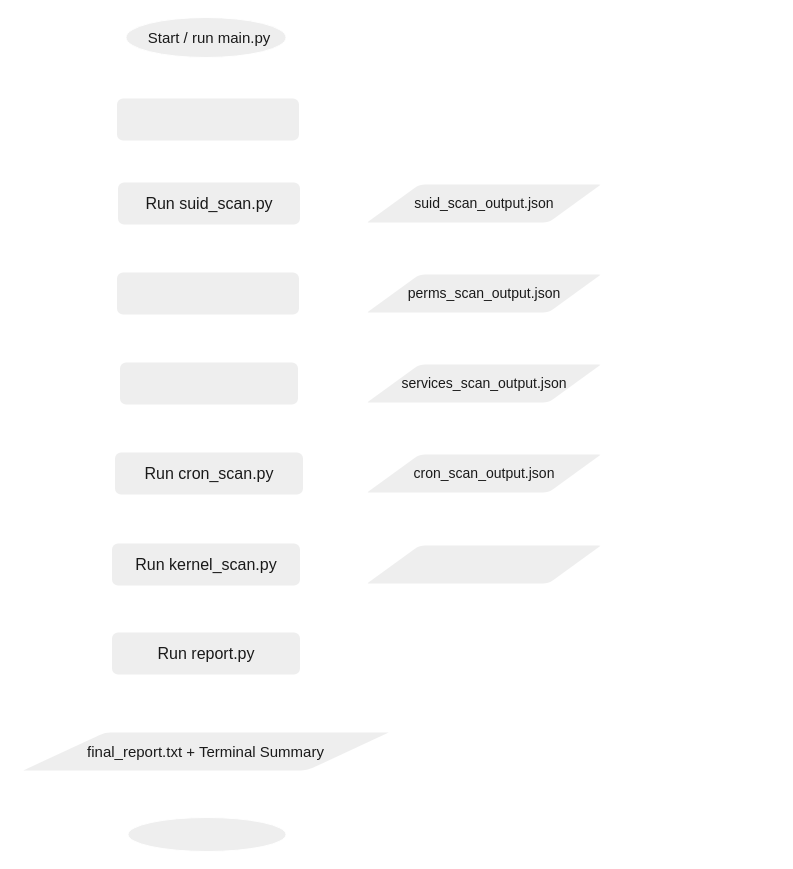
Some shapes in this 793 by 869 pixel diagram are drawn without their labels. Here are the shapes that lost their labels. From the top down, the box of each, then its label:
(114, 96, 300, 142): Create results/ directory
(114, 270, 300, 316): Run perms_scan.py
(118, 360, 300, 406): Run services_scan.py
(362, 543, 604, 585): kernel_scan_output.json
(127, 816, 286, 852): end
